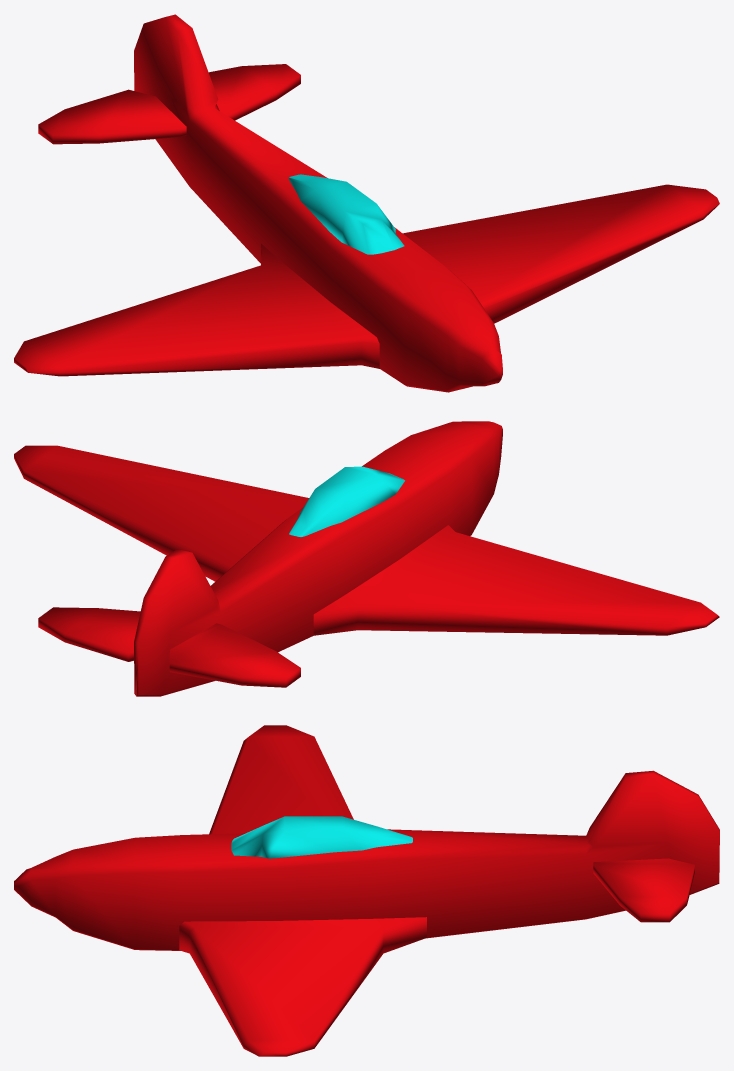
The model's file is airplane.glb.
3 views of the same model, one above another, from view 1: azimuth 30°, elevation 25°; view 2: azimuth 150°, elevation 25°; view 3: azimuth 270°, elevation 25° (orthographic). The views are drawn at different scales.
Parts seen in each view (by area): view 1: Wings, Fuselage, Elevator, Cockpit; view 2: Wings, Fuselage, Elevator, Cockpit; view 3: Fuselage, Wings, Cockpit, Elevator.
Boxes of the visible parts, x1,y1,x2,y2 form: Wings: (14, 184, 719, 376); Fuselage: (134, 14, 502, 392); Elevator: (38, 64, 300, 144); Cockpit: (289, 174, 404, 254); Wings: (14, 445, 719, 635); Fuselage: (134, 421, 502, 696); Elevator: (38, 607, 300, 687); Cockpit: (289, 466, 404, 536); Fuselage: (14, 770, 719, 950); Wings: (179, 725, 427, 1056); Cockpit: (231, 816, 412, 858); Elevator: (593, 858, 694, 922).
Size of the model in its own units: 6.98 by 1.61 by 6.36.
